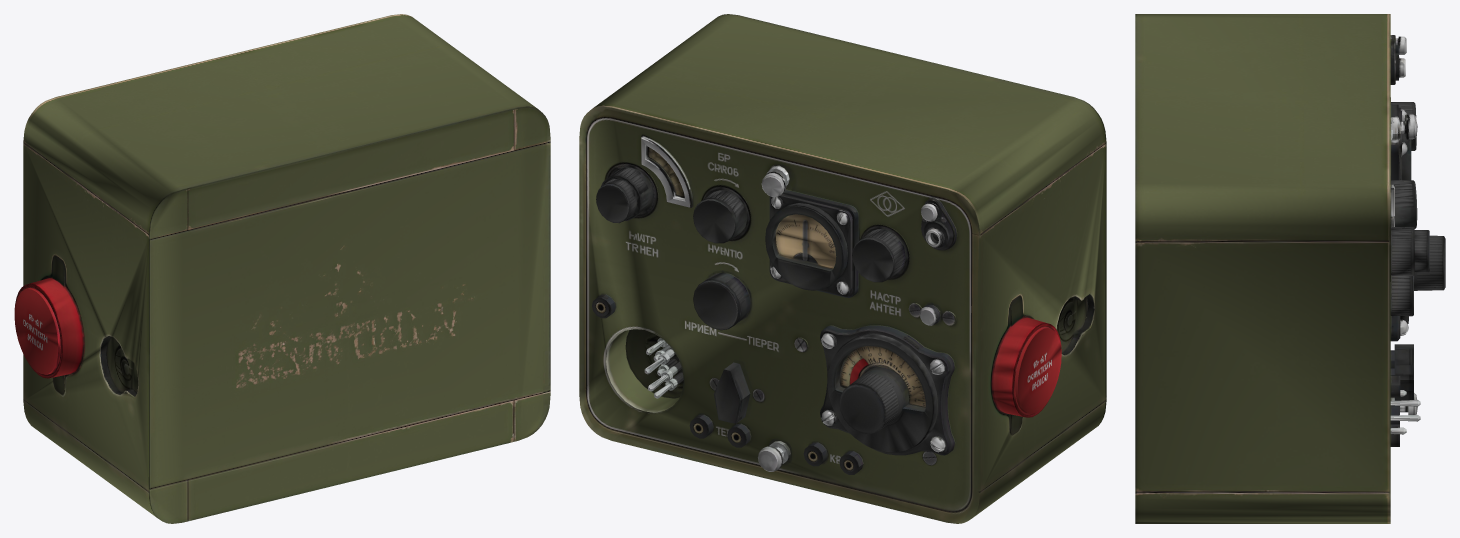
File: OparetionRoom_AI_Prop.013.fbx
3 views of the same model, side by side, from view 1: azimuth 30°, elevation 25°; view 2: azimuth 150°, elevation 25°; view 3: azimuth 270°, elevation 25° (orthographic).
Visible parts, largest first — view 1: OparetionRoom_AI_Prop.013; view 2: OparetionRoom_AI_Prop.013; view 3: OparetionRoom_AI_Prop.013.
Boxes of the visible parts, box(x1,y1,x2,y2) form: OparetionRoom_AI_Prop.013: box(14, 14, 550, 523); OparetionRoom_AI_Prop.013: box(579, 14, 1106, 523); OparetionRoom_AI_Prop.013: box(1135, 14, 1445, 523).
Bounding box in the file's own units: 55.48 × 41.55 × 34.77.
